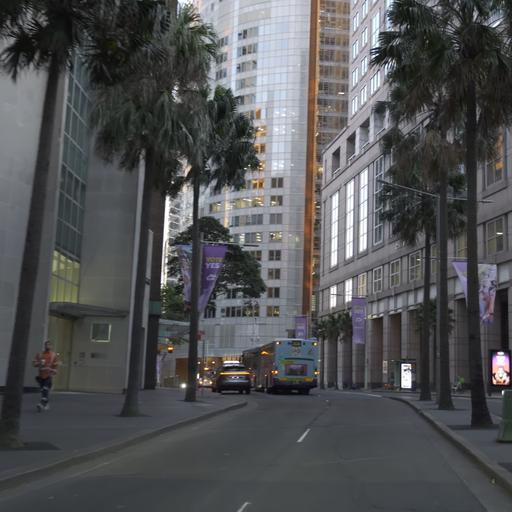Street light: (375, 175, 494, 410), (375, 177, 494, 204), (415, 254, 439, 262), (166, 345, 173, 353)
